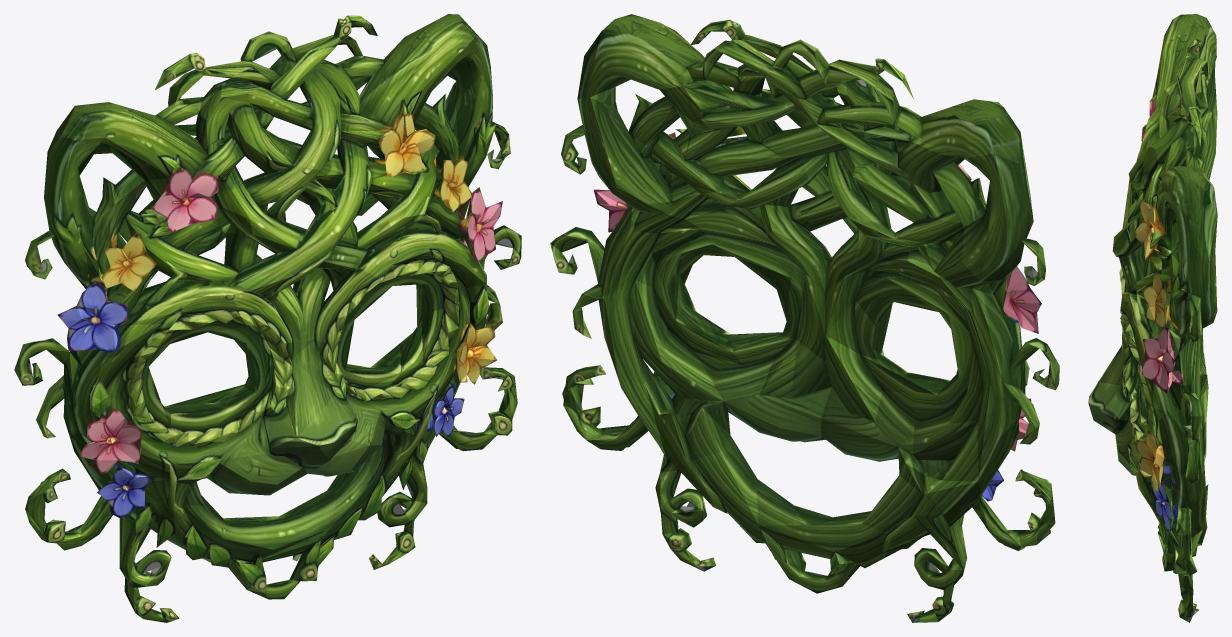
Rendered from MaskVine.fbx.
The picture shows the model from 3 angles, left to right: view 1: azimuth 30°, elevation 25°; view 2: azimuth 150°, elevation 25°; view 3: azimuth 270°, elevation 25°; orthographic projection. The views are drawn at different scales.
Parts seen in each view (by area): view 1: MaskVine; view 2: MaskVine; view 3: MaskVine.
Part boxes in pixels (x1,y1,x2,y2): MaskVine: (14,14,521,622); MaskVine: (550,14,1059,622); MaskVine: (1088,14,1217,622).
Size of the model in its own units: 0.9415 by 1 by 0.2343.
1 material, 1 textured.
